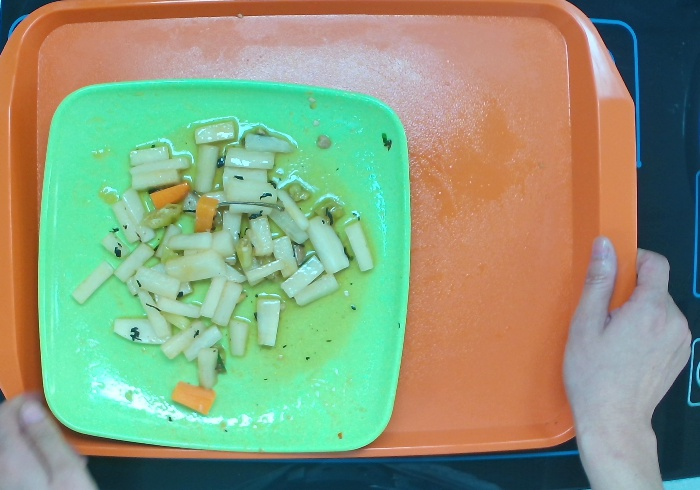ZNLD-Lv_Fang_Pan: (37, 77, 414, 451)
